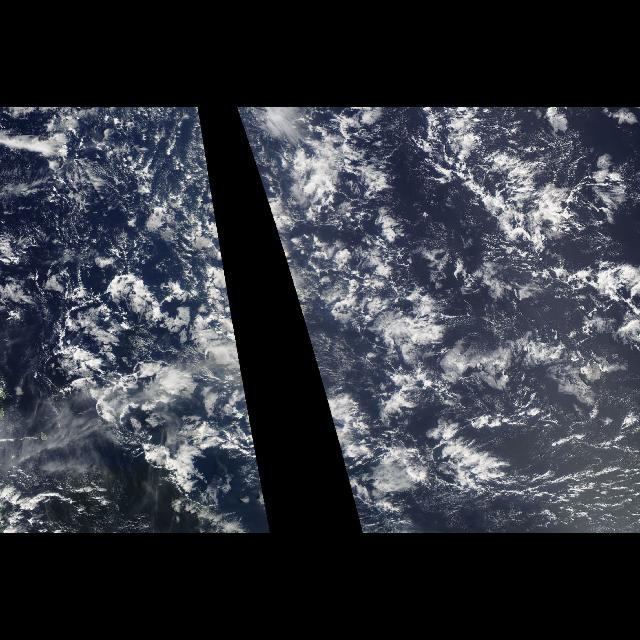Fish: (420, 114, 596, 248)
Gravel: (6, 160, 240, 370), (252, 160, 396, 370)
